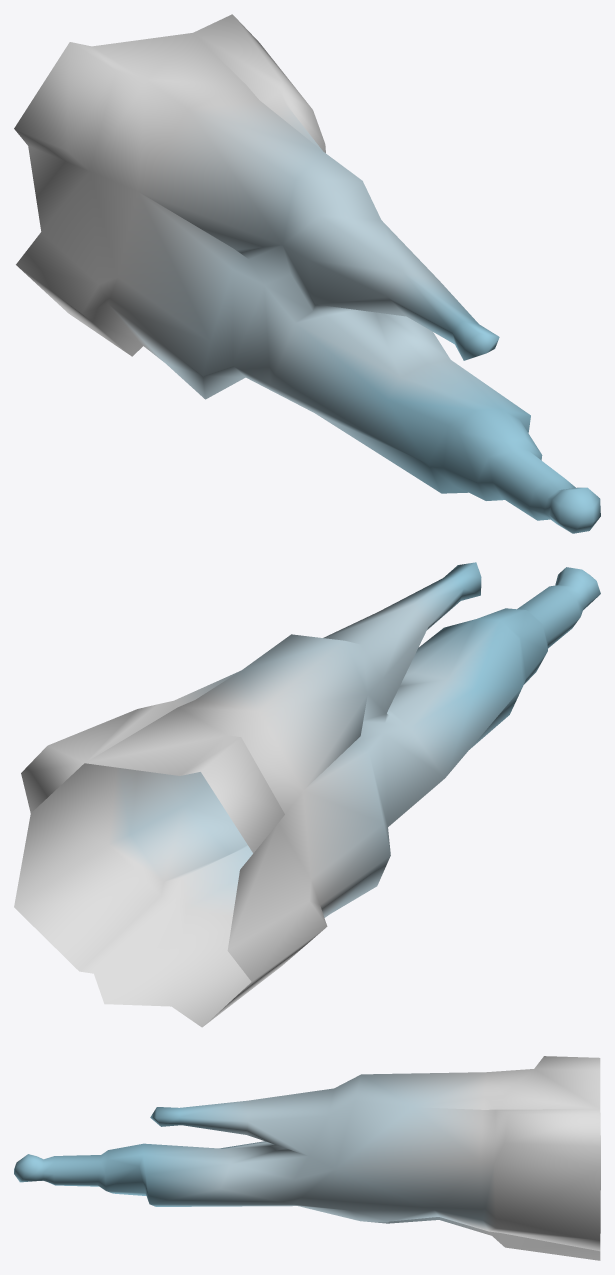
Rendered from Stalactites_IceA.glb.
3 views of the same model, one above another, from view 1: azimuth 30°, elevation 25°; view 2: azimuth 150°, elevation 25°; view 3: azimuth 270°, elevation 25° (orthographic). The views are drawn at different scales.
Parts seen in each view (by area): view 1: MeshNode_0; view 2: MeshNode_0; view 3: MeshNode_0.
Boxes of the visible parts, x1,y1,x2,y2 form: MeshNode_0: (14, 14, 600, 533); MeshNode_0: (14, 562, 600, 1027); MeshNode_0: (14, 1056, 600, 1260).
Size of the model in its own units: 3.36 by 3.41 by 10.43.
